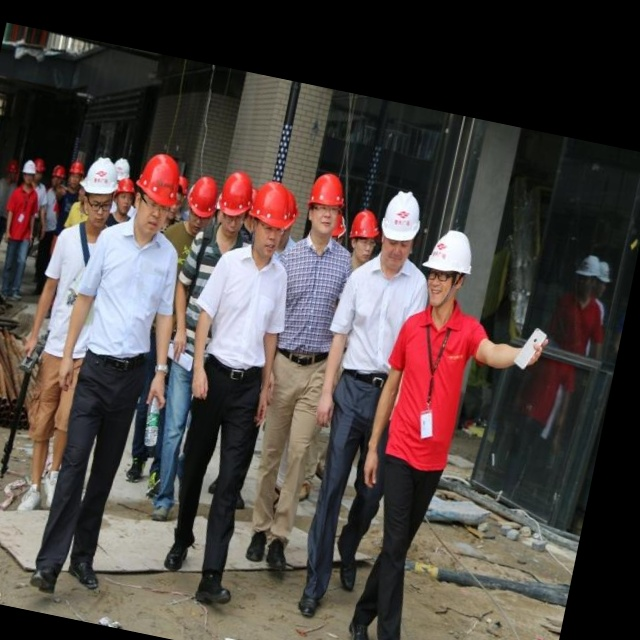Con_Casco: (418, 226, 478, 312), (129, 152, 184, 237), (374, 189, 427, 271)
Sin_Chaleco: (74, 224, 185, 375), (379, 302, 479, 465), (199, 247, 293, 376)
